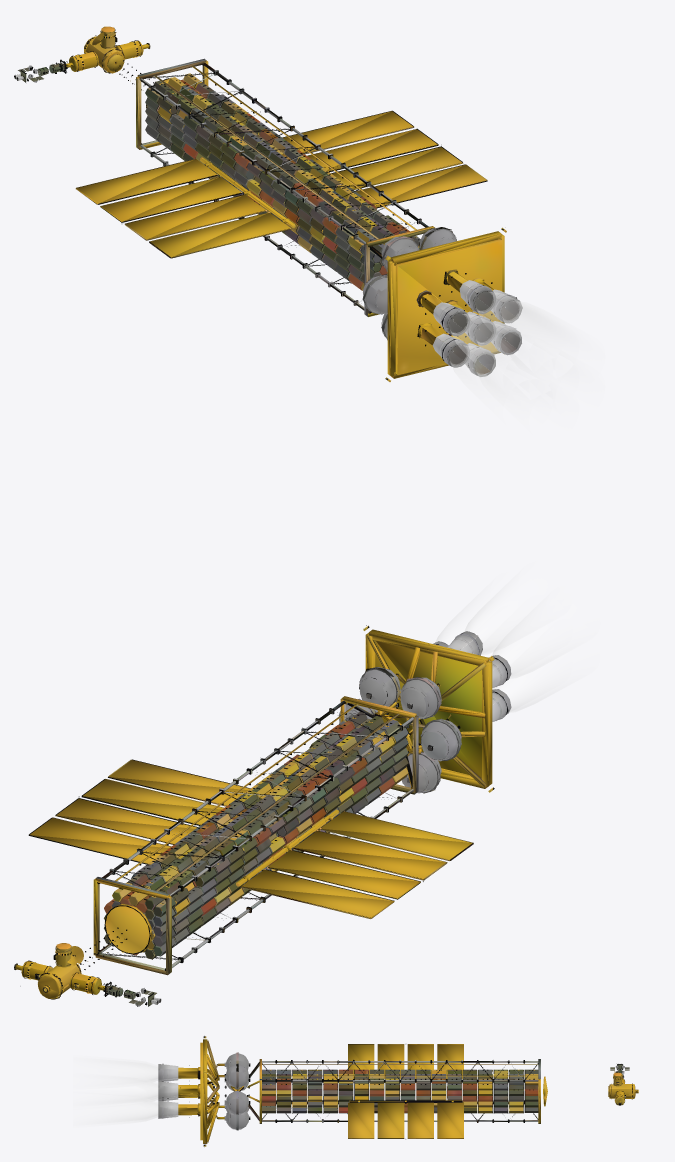
Rendered from Titan_LOD2.glb.
3 views of the same model, one above another, from view 1: azimuth 30°, elevation 25°; view 2: azimuth 150°, elevation 25°; view 3: azimuth 270°, elevation 25° (orthographic). The views are drawn at different scales.
Visible parts, largest first — view 1: hull, detail, plume; view 2: hull, detail, plume; view 3: hull, detail, plume.
Part boxes in pixels (x1,y1,x2,y2): hull: (62, 26, 504, 378); detail: (14, 32, 522, 381); plume: (449, 291, 582, 424); hull: (14, 625, 492, 999); detail: (27, 625, 511, 1006); plume: (436, 581, 576, 712); hull: (178, 1039, 638, 1143); detail: (158, 1036, 637, 1146); plume: (81, 1057, 158, 1125).
Size of the model in its own units: 203 by 78.8 by 580.
Materials: 6 (4 with a texture image).
